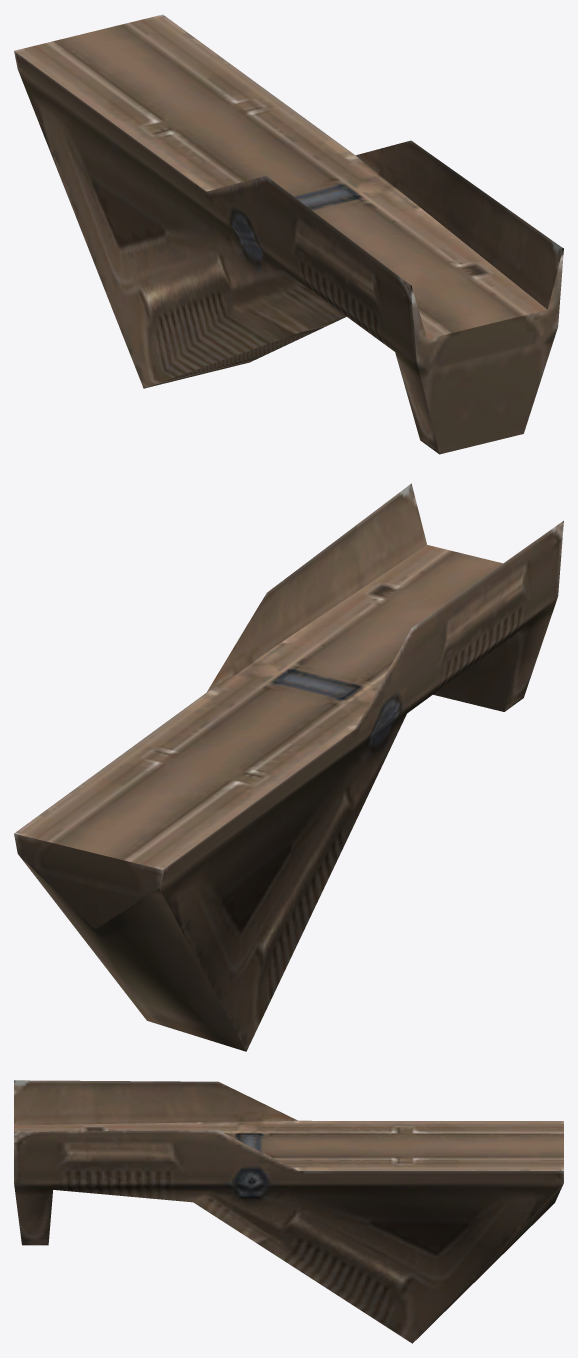
The model's file is Assault_Rifle_bq_qtb_01_lod2_Stock_Attachment_LOD_(000013).glb.
3 renders of one model, top to bottom at view 1: azimuth 30°, elevation 25°; view 2: azimuth 150°, elevation 25°; view 3: azimuth 270°, elevation 25°, orthographic. The views are drawn at different scales.
Visible parts, largest first — view 1: bq_qtb_01_lod2; view 2: bq_qtb_01_lod2; view 3: bq_qtb_01_lod2.
Part boxes in pixels (x1,y1,x2,y2): bq_qtb_01_lod2: [14, 14, 563, 454]; bq_qtb_01_lod2: [14, 483, 563, 1051]; bq_qtb_01_lod2: [14, 1080, 563, 1343].
Bounding box in the file's own units: 0.0595 × 0.1201 × 0.2685.
1 material, 1 textured.
